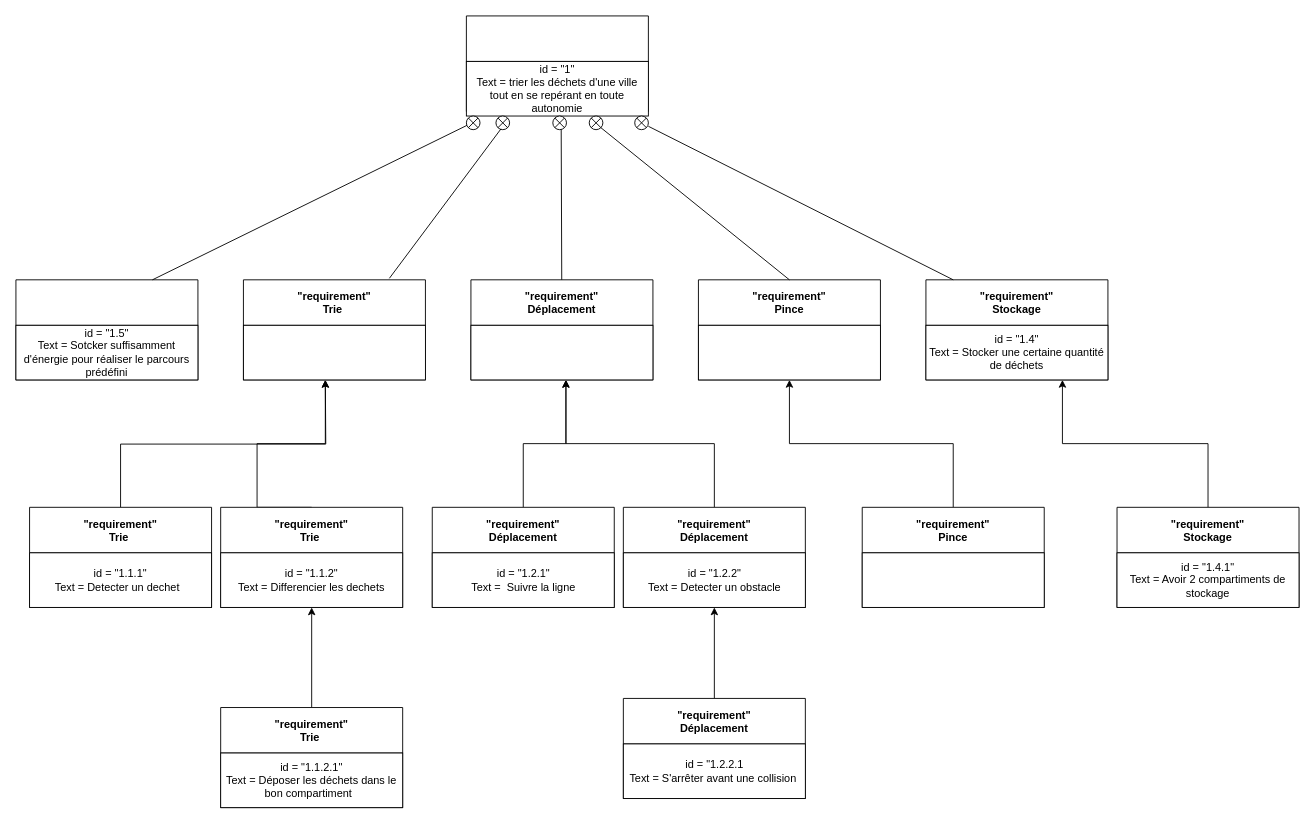
Image size: 1315x824. Some labels were removed from this diagram. The box of each missing label's shape, as (x1, y1, x2, y2) in pixels:
"requirement" Robot trilleur de déchets: (465, 15, 648, 111)
"requirement" Énergie: (15, 279, 198, 380)
id = "1.1" Text = Differencier les types de déchets: (243, 324, 425, 380)
id = "1.2" Text = Se déplacer dans l'environnement en toute autonomie: (470, 324, 653, 380)
id = "1.3" Text = Saisir les déchets: (698, 324, 880, 380)
id = "1.3.1" Text = Maintenir le dechets pendant la séquence de tri: (861, 552, 1044, 607)
